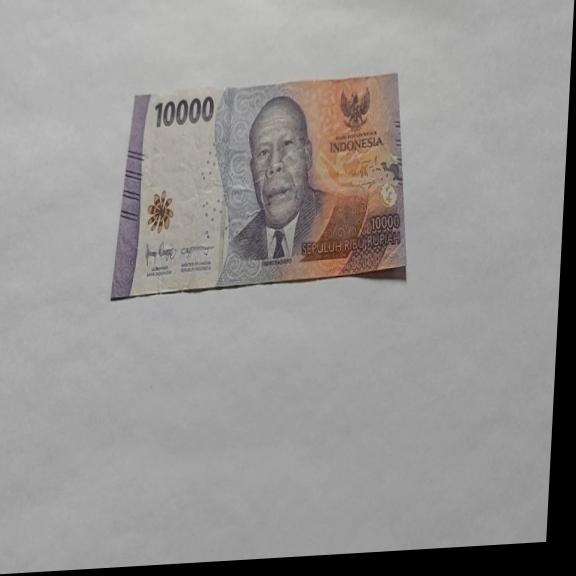Kertas: (111, 71, 418, 301)
